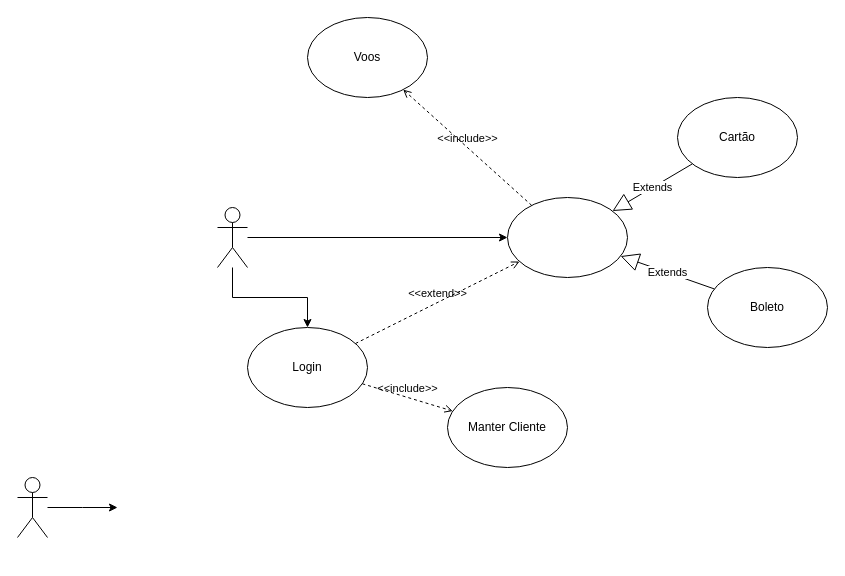
The diagram is 845 pixels wide and 576 high, and some of its shapes have lost their labels. Here are the shapes that lost their labels. From the top down, the centre of each, then its label:
point 232,237: Cliente
point 567,237: Venda de Passagem
point 32,507: Actor
